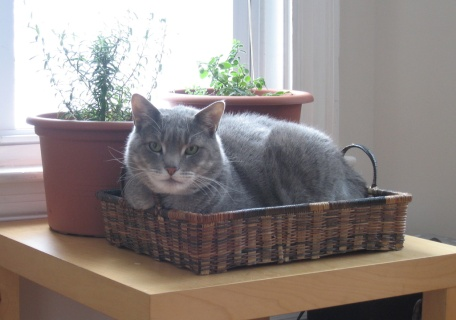Cat: (101, 88, 366, 215)
